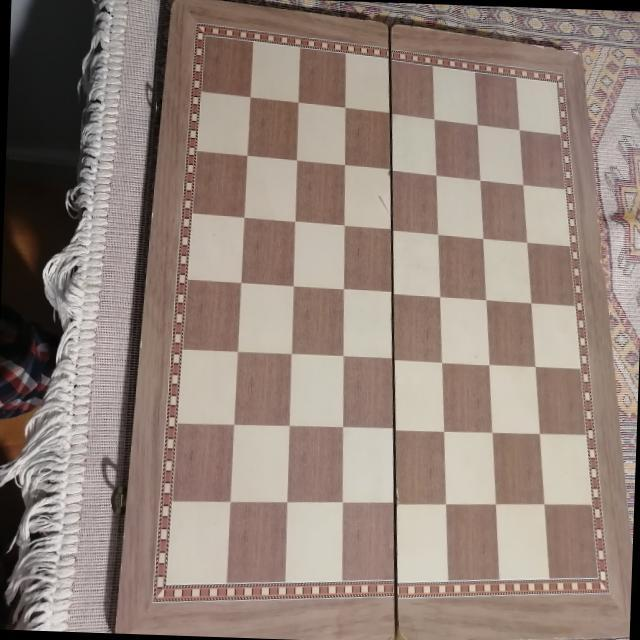corners: (569, 44, 593, 69), (107, 620, 125, 640), (172, 0, 182, 8)
